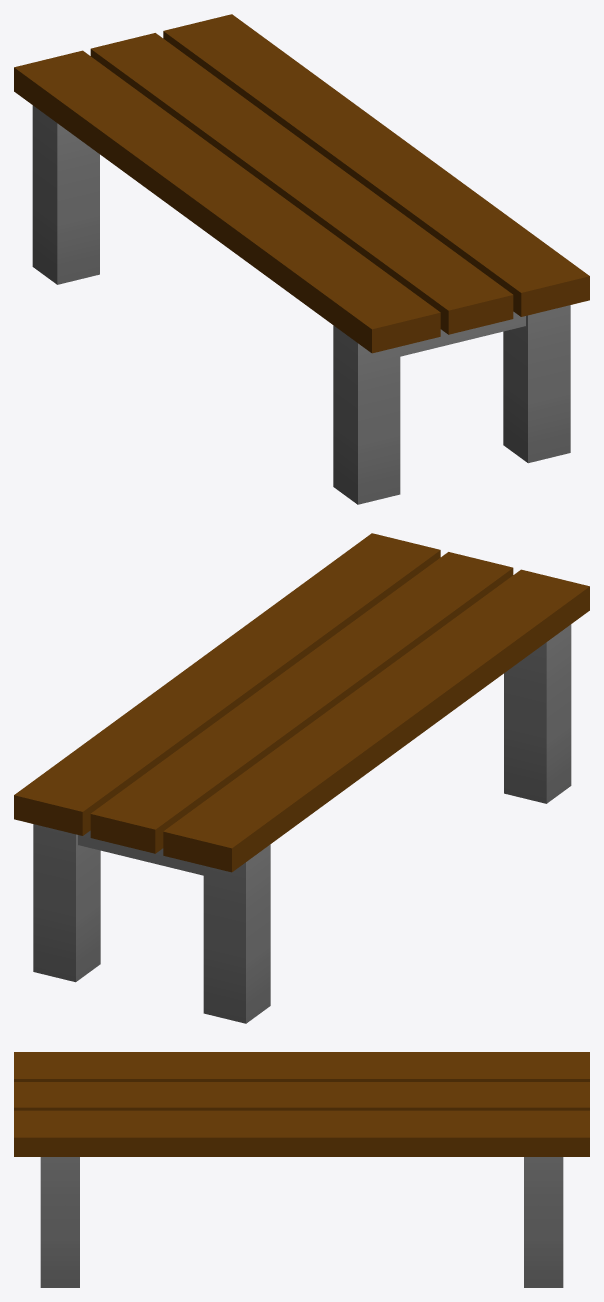
The model's file is Bench_1_D_4.fbx.
3 renders of one model, top to bottom at view 1: azimuth 30°, elevation 25°; view 2: azimuth 150°, elevation 25°; view 3: azimuth 270°, elevation 25°, orthographic. The views are drawn at different scales.
Parts seen in each view (by area): view 1: Bench_1_D_4; view 2: Bench_1_D_4; view 3: Bench_1_D_4.
Part boxes in pixels (x1,y1,x2,y2): Bench_1_D_4: (14, 14, 589, 504); Bench_1_D_4: (14, 533, 589, 1023); Bench_1_D_4: (14, 1052, 589, 1287).
Size of the model in its own units: 40.68 by 33.54 by 116.
